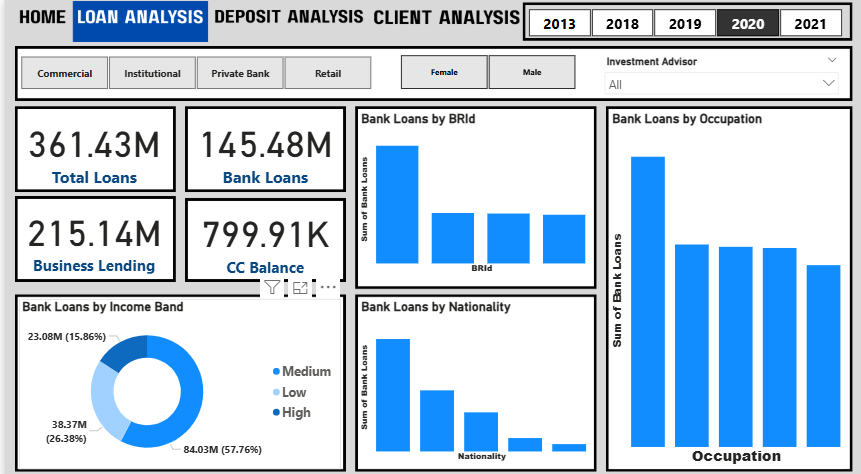

What the dashboard file says about the page in this screenshot:
{"tool":"powerbi","page":{"name":"Loan Analysis","canvas":[1280,720],"ordinal":1},"visuals":[{"type":"slicer","fields":{"Values":["banking_case customer.Year of Joining"]},"box":[762.3,11.5,506.6,44.3],"z":0},{"type":"actionButton","box":[11.9,0,85.1,55.2],"z":1000},{"type":"actionButton","box":[311.9,1.5,226.9,53.7],"z":3000},{"type":"actionButton","box":[538.8,6,223.9,49.3],"z":4000},{"type":"card","fields":{"Values":["banking_case customer.Total Loans"]},"box":[23,165.6,224.6,116.4],"z":5000},{"type":"card","fields":{"Values":["Sum(banking_case customer.Bank Loans)"]},"box":[275.4,165.6,227.9,116.4],"z":6000},{"type":"card","fields":{"Values":["Sum(banking_case customer.Business Lending)"]},"box":[23,298.4,224.6,114.8],"z":7000},{"type":"card","fields":{"Values":["Sum(banking_case customer.Credit Card Balance)"]},"box":[275.4,303.3,227.9,109.8],"z":8000},{"type":"donutChart","fields":{"Category":["banking_case customer.Income Band"],"Y":["Sum(banking_case customer.Bank Loans)"]},"box":[23,445.9,480.3,254.1],"z":9000},{"type":"clusteredColumnChart","title":"Bank Loans by BRId","fields":{"Category":["banking_case customer.BRId"],"Y":["Sum(banking_case customer.Bank Loans)"]},"box":[527.9,165.6,347.5,247.5],"z":10000},{"type":"clusteredColumnChart","title":"Bank Loans by Nationality","fields":{"Category":["banking_case customer.Nationality"],"Y":["Sum(banking_case customer.Bank Loans)"]},"box":[527.9,445.9,347.5,247.5],"z":11000},{"type":"clusteredColumnChart","title":"Bank Loans by Occupation","fields":{"Y":["Sum(banking_case customer.Bank Loans)"],"Category":["banking_case customer.Occupation"]},"box":[903.3,165.6,352.5,534.4],"z":12000},{"type":"slicer","fields":{"Values":["banking_case customer.BRId"]},"box":[0,77,572.1,62.3],"z":13000},{"type":"slicer","fields":{"Values":["banking_case customer.GenderId"]},"box":[572.1,80.3,300,54.1],"z":14000},{"type":"slicer","fields":{"Values":["banking_case customer.IAId"]},"box":[886.9,77,368.9,65.6],"z":15000},{"type":"actionButton","box":[97,3,204.5,53.7],"z":15001}]}

Visuals, with their boxes in screenshot pixels (x1, y1, x2, y2), scaled from the page's 1280x720 canvas onto the 861x474 screenshot:
slicer - banking_case customer.Year of Joining: bbox=[513, 8, 854, 37]
actionButton: bbox=[8, 0, 65, 36]
actionButton: bbox=[210, 1, 362, 36]
actionButton: bbox=[362, 4, 513, 36]
card - banking_case customer.Total Loans: bbox=[15, 109, 167, 186]
card - Sum(banking_case customer.Bank Loans): bbox=[185, 109, 339, 186]
card - Sum(banking_case customer.Business Lending): bbox=[15, 196, 167, 272]
card - Sum(banking_case customer.Credit Card Balance): bbox=[185, 200, 339, 272]
donutChart - banking_case customer.Income Band x Sum(banking_case customer.Bank Loans): bbox=[15, 294, 339, 461]
"Bank Loans by BRId" clusteredColumnChart: bbox=[355, 109, 589, 272]
"Bank Loans by Nationality" clusteredColumnChart: bbox=[355, 294, 589, 456]
"Bank Loans by Occupation" clusteredColumnChart: bbox=[608, 109, 845, 461]
slicer - banking_case customer.BRId: bbox=[0, 51, 385, 92]
slicer - banking_case customer.GenderId: bbox=[385, 53, 587, 88]
slicer - banking_case customer.IAId: bbox=[597, 51, 845, 94]
actionButton: bbox=[65, 2, 203, 37]
